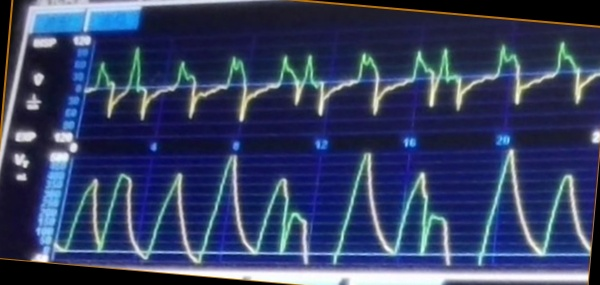Double_Triggering Flow: (92, 33, 592, 122)
Double_Triggering Volume: (75, 149, 586, 265)
